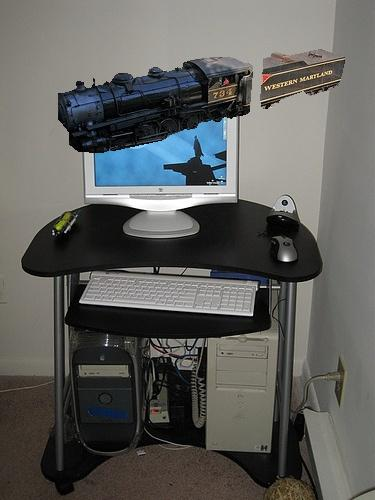tampered: (59, 50, 345, 153)
